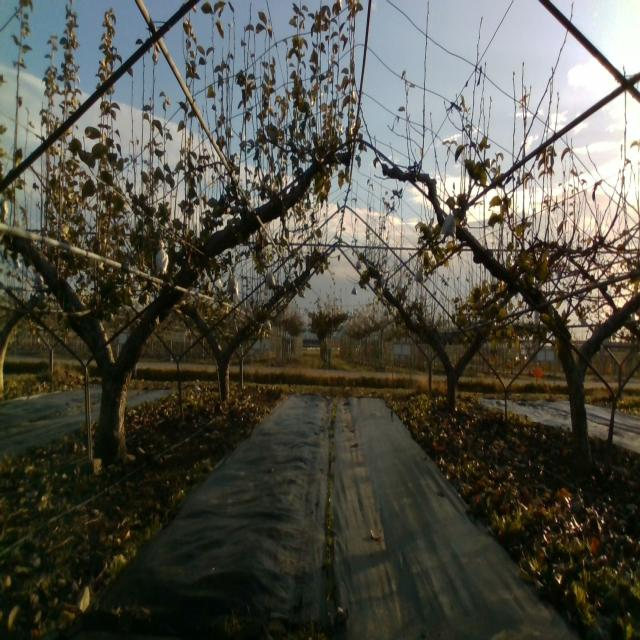pearbags: (156, 240, 170, 275), (440, 213, 457, 240), (226, 275, 238, 295), (264, 269, 276, 289)
